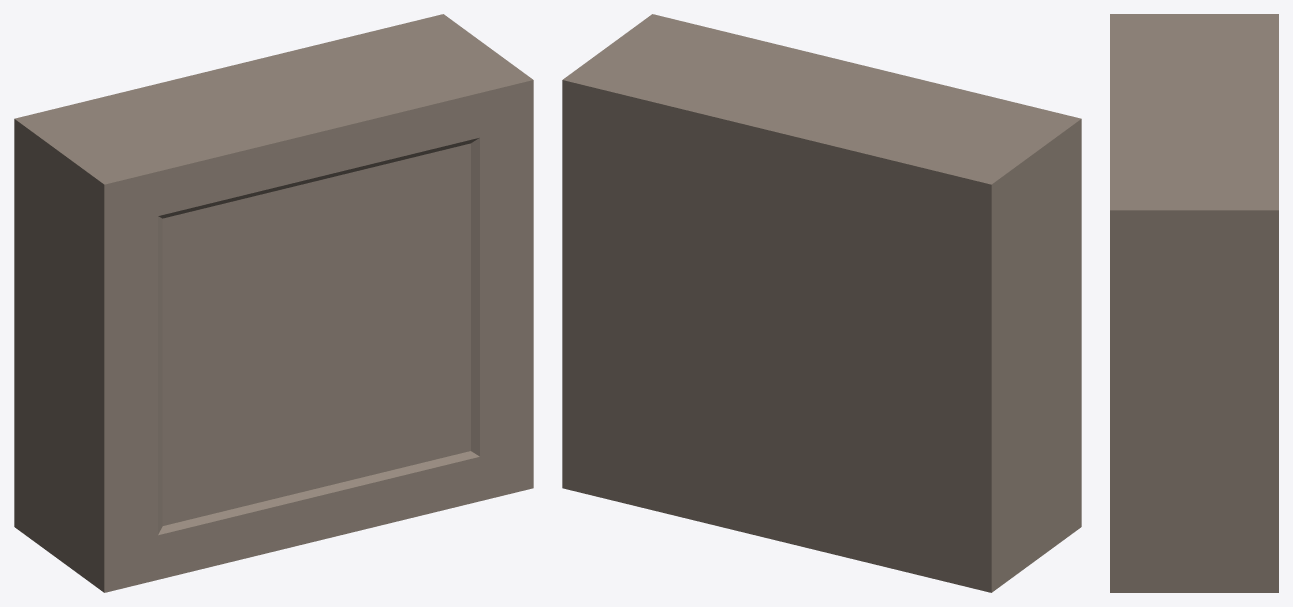
The model's file is Wall-Cabinet-Single-Door-with-Shelves_std_001_W33in.glb.
3 views of the same model, side by side, from view 1: azimuth 30°, elevation 25°; view 2: azimuth 150°, elevation 25°; view 3: azimuth 270°, elevation 25° (orthographic). The views are drawn at different scales.
Parts seen in each view (by area): view 1: Wall-Cabinet-Single-Door-with-Shelves.std.001_W33in; view 2: Wall-Cabinet-Single-Door-with-Shelves.std.001_W33in; view 3: Wall-Cabinet-Single-Door-with-Shelves.std.001_W33in.
Part boxes in pixels (x1,y1,x2,y2): Wall-Cabinet-Single-Door-with-Shelves.std.001_W33in: (14, 14, 533, 592); Wall-Cabinet-Single-Door-with-Shelves.std.001_W33in: (562, 14, 1081, 592); Wall-Cabinet-Single-Door-with-Shelves.std.001_W33in: (1110, 14, 1278, 592).
Bounding box in the file's own units: 0.8382 × 0.762 × 0.3048.
